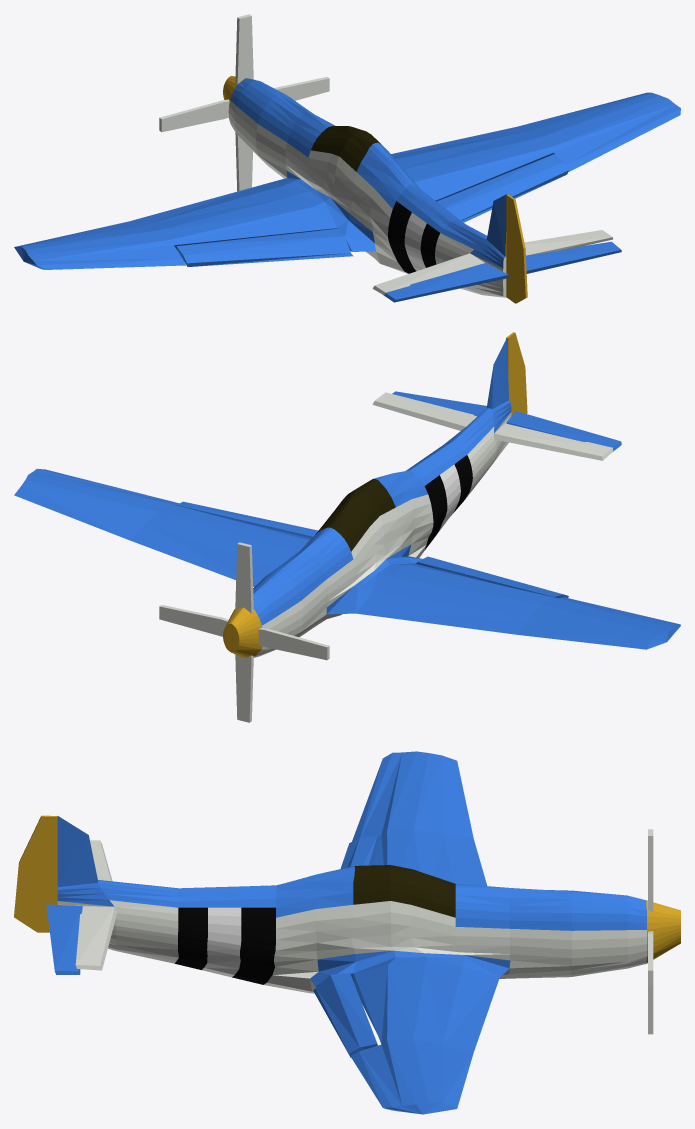
3 views of the same model, one above another, from view 1: azimuth 30°, elevation 25°; view 2: azimuth 150°, elevation 25°; view 3: azimuth 270°, elevation 25° (orthographic). The views are drawn at different scales.
Visible parts, largest first — view 1: body, aileron_l, propeller, aileron_r, elevator_l, rudder, elevator_r; view 2: body, propeller, elevator_l, aileron_l, rudder, aileron_r, elevator_r; view 3: body, rudder, aileron_r, elevator_r, propeller, aileron_l.
Boxes of the visible parts, left/top/right/bottom form: body: left=14, top=76, right=680, bottom=297; aileron_l: left=176, top=229, right=353, bottom=266; propeller: left=159, top=14, right=329, bottom=191; aileron_r: left=437, top=154, right=568, bottom=222; elevator_l: left=383, top=263, right=508, bottom=302; rudder: left=506, top=194, right=527, bottom=303; elevator_r: left=526, top=241, right=621, bottom=273; body: left=14, top=338, right=680, bottom=657; propeller: left=159, top=542, right=329, bottom=722; elevator_l: left=506, top=411, right=621, bottom=452; aileron_l: left=417, top=556, right=568, bottom=598; rudder: left=506, top=332, right=527, bottom=415; aileron_r: left=177, top=501, right=317, bottom=538; elevator_r: left=392, top=391, right=486, bottom=416; body: left=57, top=751, right=680, bottom=1114; rudder: left=14, top=815, right=57, bottom=932; aileron_r: left=313, top=973, right=377, bottom=1057; elevator_r: left=46, top=904, right=82, bottom=974; propeller: left=648, top=829, right=653, bottom=1034; aileron_l: left=340, top=835, right=378, bottom=868.
Bounding box in the file's own units: 18.79 × 14.93 × 5.32.
